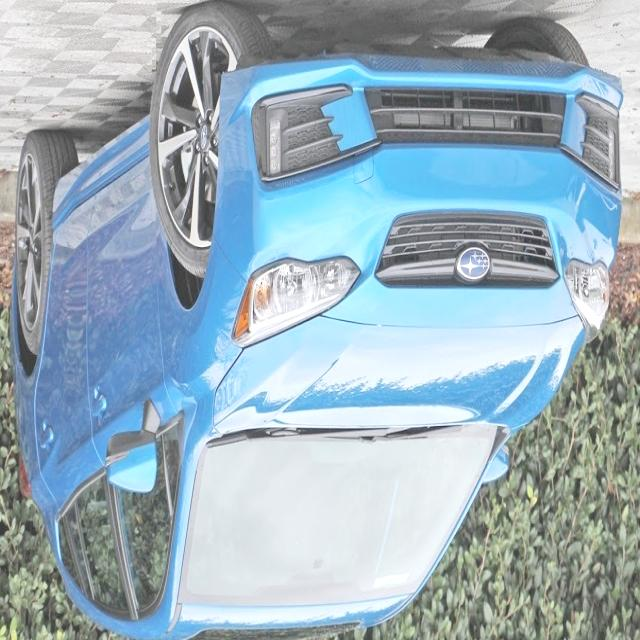blue: (10, 13, 623, 640)
